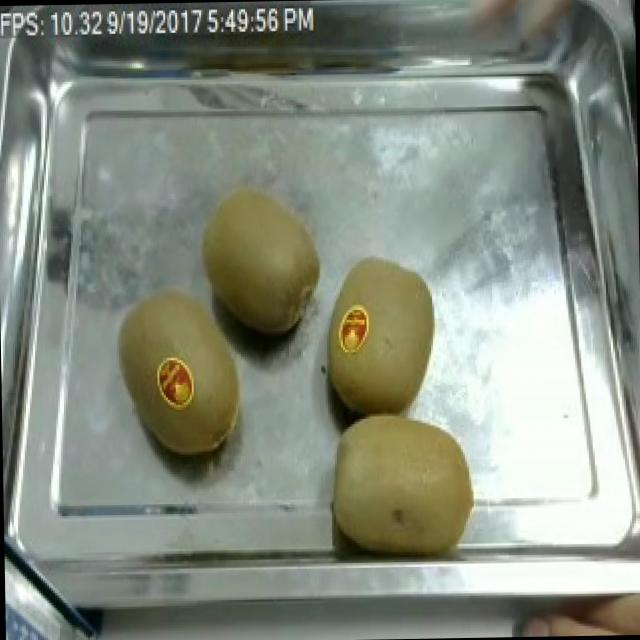Fruit: (108, 276, 256, 466), (320, 401, 488, 563), (315, 246, 446, 424), (192, 178, 331, 344)
